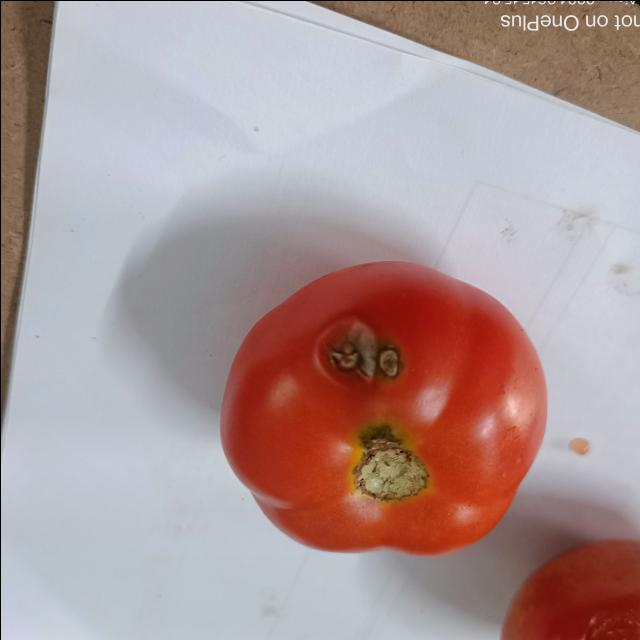Botrytis: (316, 316, 401, 392)
